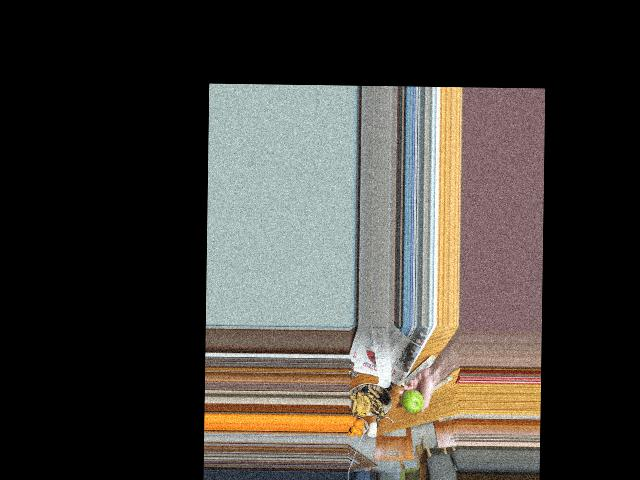apple: (400, 388, 426, 413)
